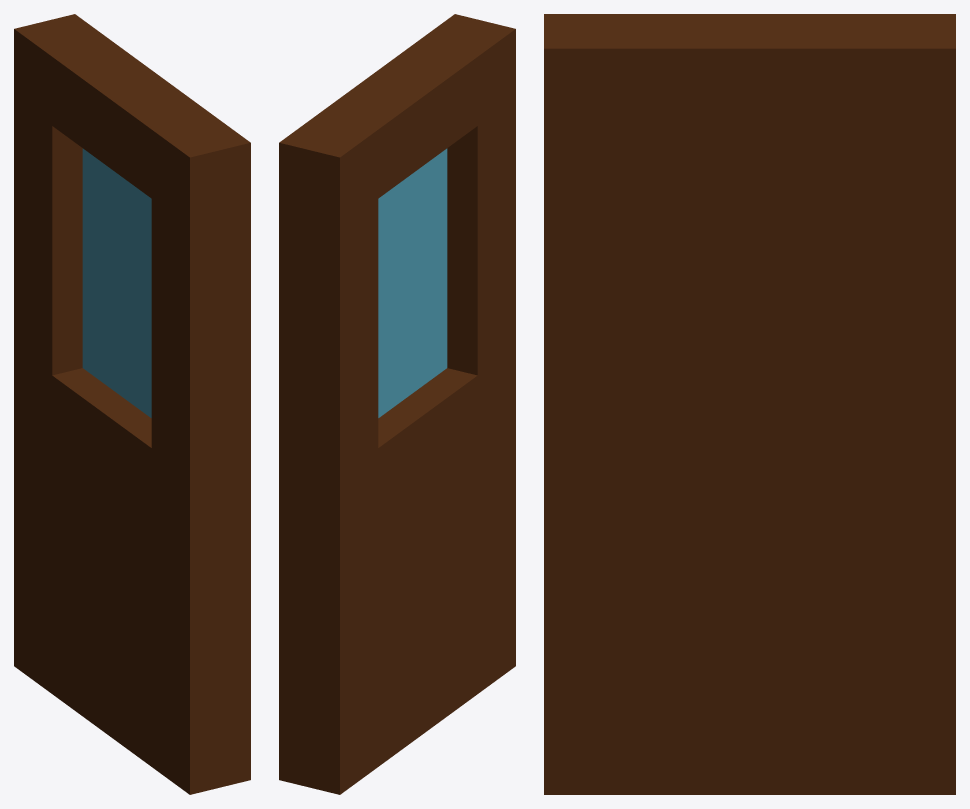
3 renders of one model, left to right at view 1: azimuth 30°, elevation 25°; view 2: azimuth 150°, elevation 25°; view 3: azimuth 270°, elevation 25°, orthographic. The views are drawn at different scales.
Parts seen in each view (by area): view 1: G-__556230_G-__556230_Wood, G-__556230_G-__556230_Glass; view 2: G-__556230_G-__556230_Wood, G-__556230_G-__556230_Glass; view 3: G-__556230_G-__556230_Wood.
Part boxes in pixels (x1,y1,x2,y2): G-__556230_G-__556230_Wood: (14, 14, 250, 794); G-__556230_G-__556230_Glass: (82, 148, 151, 417); G-__556230_G-__556230_Wood: (279, 14, 515, 794); G-__556230_G-__556230_Glass: (378, 148, 447, 417); G-__556230_G-__556230_Wood: (544, 14, 955, 794).
Size of the model in its own units: 0.05 by 0.5 by 0.25.
